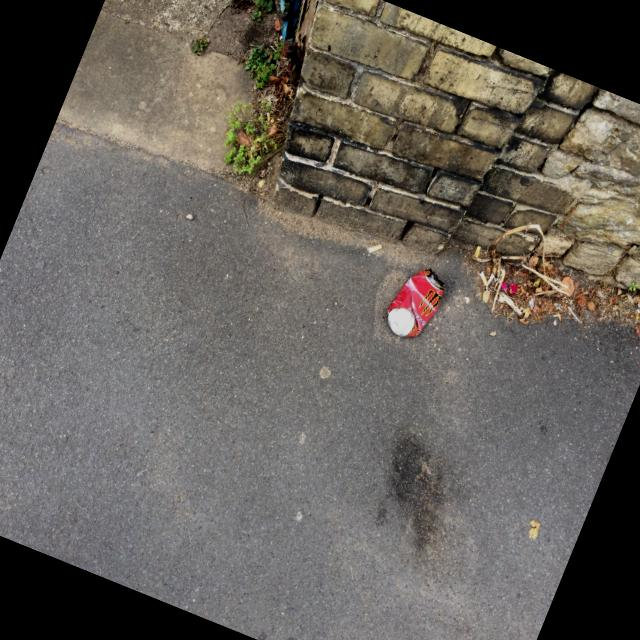Cigarette: (479, 270, 487, 285), (367, 244, 380, 252), (474, 246, 480, 256), (265, 112, 269, 121), (250, 146, 254, 151)
Drink can: (386, 268, 443, 337)
